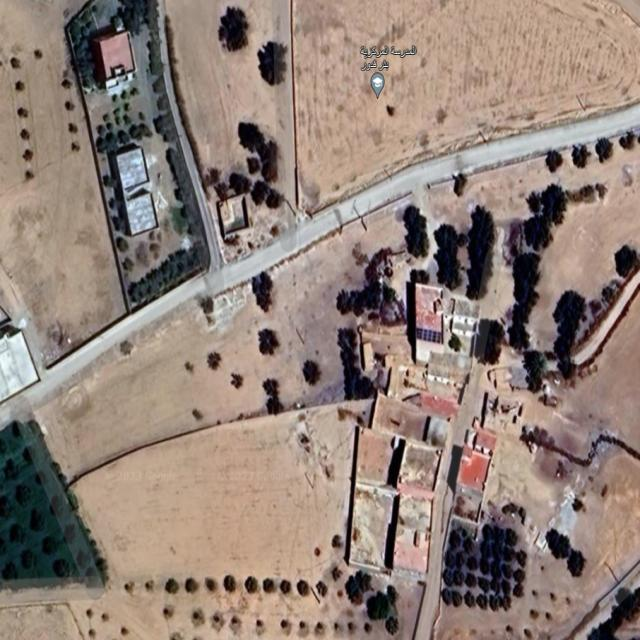Countryside roofs: (402, 270, 480, 358), (452, 429, 505, 510), (388, 498, 438, 582), (91, 18, 142, 96), (104, 131, 155, 193), (394, 425, 442, 489), (204, 182, 252, 243), (114, 191, 160, 238)
